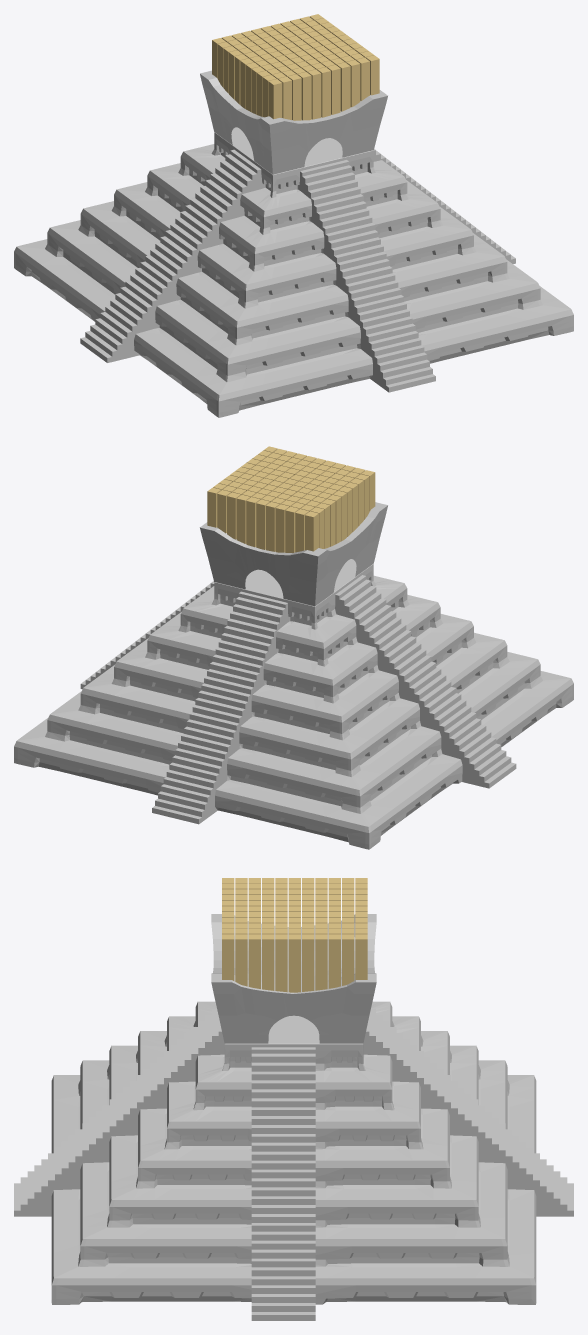
The picture shows the model from 3 angles, top to bottom: view 1: azimuth 30°, elevation 25°; view 2: azimuth 150°, elevation 25°; view 3: azimuth 270°, elevation 25°; orthographic projection. The views are drawn at different scales.
Visible parts, largest first — view 1: Cube_006, Cube_001, Cube_003, Cube_005, Cube_002, Cube_016, Cube_060, Cube_049, Cube_093; view 2: Cube_006, Cube, Cube_003, Cube_005, Cube_002, Cube_170, Cube_167, Cube_164, Cube_171, Cube_166; view 3: Cube_006, Cube_002, Cube_005, Cube_001, Cube, Cube_121, Cube_122, Cube_120, Cube_123, Cube_119, Cube_124, Cube_118 (+4 smaller).
Boxes of the visible parts, bbox=[...] form: Cube_006: bbox=[14, 132, 573, 417]; Cube_001: bbox=[298, 160, 435, 392]; Cube_003: bbox=[80, 149, 265, 362]; Cube_005: bbox=[200, 70, 387, 174]; Cube_002: bbox=[373, 149, 515, 263]; Cube_016: bbox=[268, 79, 282, 119]; Cube_060: bbox=[307, 69, 321, 119]; Cube_049: bbox=[297, 72, 311, 120]; Cube_093: bbox=[336, 62, 350, 111]; Cube_006: bbox=[14, 564, 573, 849]; Cube: bbox=[152, 591, 289, 824]; Cube_003: bbox=[335, 575, 516, 788]; Cube_005: bbox=[199, 502, 387, 606]; Cube_002: bbox=[80, 581, 214, 689]; Cube_170: bbox=[246, 497, 260, 547]; Cube_167: bbox=[275, 504, 289, 552]; Cube_164: bbox=[305, 511, 318, 551]; Cube_171: bbox=[236, 494, 250, 543]; Cube_166: bbox=[285, 506, 299, 552]; Cube_006: bbox=[51, 1001, 536, 1304]; Cube_002: bbox=[251, 1047, 315, 1320]; Cube_005: bbox=[211, 914, 376, 1043]; Cube_001: bbox=[14, 1009, 224, 1216]; Cube: bbox=[363, 1009, 573, 1216]; Cube_121: bbox=[288, 934, 300, 992]; Cube_122: bbox=[275, 934, 287, 992]; Cube_120: bbox=[302, 934, 314, 991]; Cube_123: bbox=[262, 934, 274, 990]; Cube_119: bbox=[315, 934, 327, 990]; Cube_124: bbox=[248, 934, 260, 988]; Cube_118: bbox=[328, 934, 340, 988].
Size of the model in its own units: 11.31 by 11.35 by 6.61.
